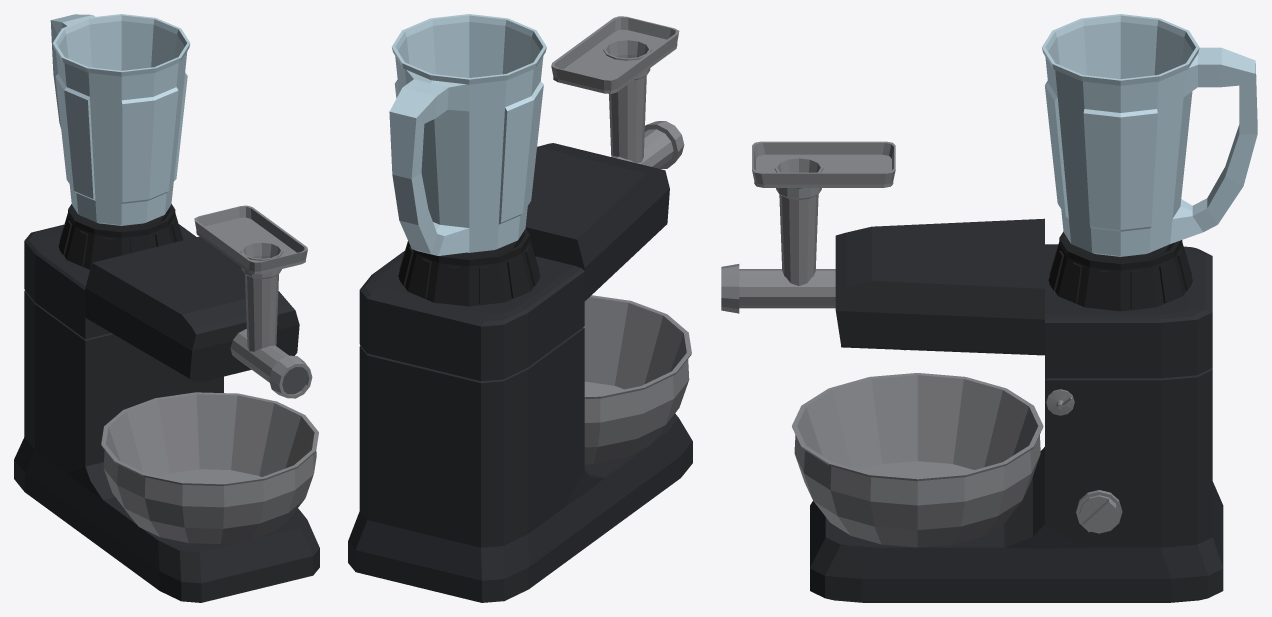
Rendered from foodprocessor_01_E.gltf.
The picture shows the model from 3 angles, left to right: view 1: azimuth 30°, elevation 25°; view 2: azimuth 150°, elevation 25°; view 3: azimuth 270°, elevation 25°; orthographic projection. The views are drawn at different scales.
Parts seen in each view (by area): view 1: foodprocessor_01_E, Plateforfoodprocessor_01_E, blenderforfoodprocessor_01_E; view 2: foodprocessor_01_E, blenderforfoodprocessor_01_E, Plateforfoodprocessor_01_E; view 3: foodprocessor_01_E, blenderforfoodprocessor_01_E, Plateforfoodprocessor_01_E, Switchforfoodprocessor_02_E.
Boxes of the visible parts, box(x1,y1,x2,y2) form: foodprocessor_01_E: box(14, 204, 319, 602); Plateforfoodprocessor_01_E: box(101, 392, 318, 543); blenderforfoodprocessor_01_E: box(50, 14, 190, 225); foodprocessor_01_E: box(348, 16, 692, 602); blenderforfoodprocessor_01_E: box(389, 14, 546, 255); Plateforfoodprocessor_01_E: box(583, 295, 691, 464); foodprocessor_01_E: box(721, 141, 1223, 602); blenderforfoodprocessor_01_E: box(1042, 14, 1257, 256); Plateforfoodprocessor_01_E: box(792, 373, 1043, 547); Switchforfoodprocessor_02_E: box(1076, 490, 1122, 533).
Size of the model in its own units: 0.2179 by 0.4952 by 0.4639.
Materials: 1 (1 with a texture image).
